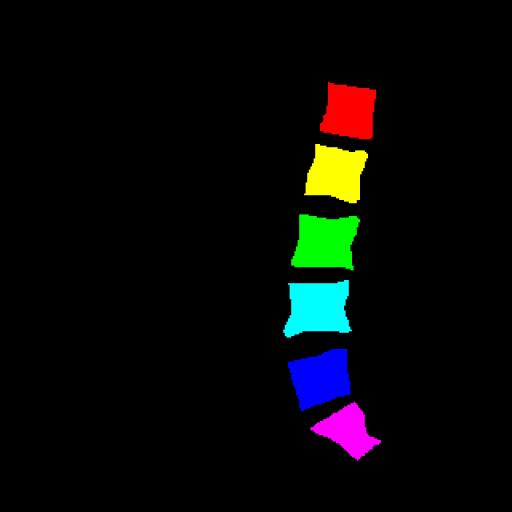L1: (320, 82, 376, 138)
L2: (305, 144, 368, 202)
L3: (291, 214, 359, 270)
L4: (283, 280, 350, 336)
L5: (288, 349, 350, 410)
S1: (311, 402, 381, 460)
